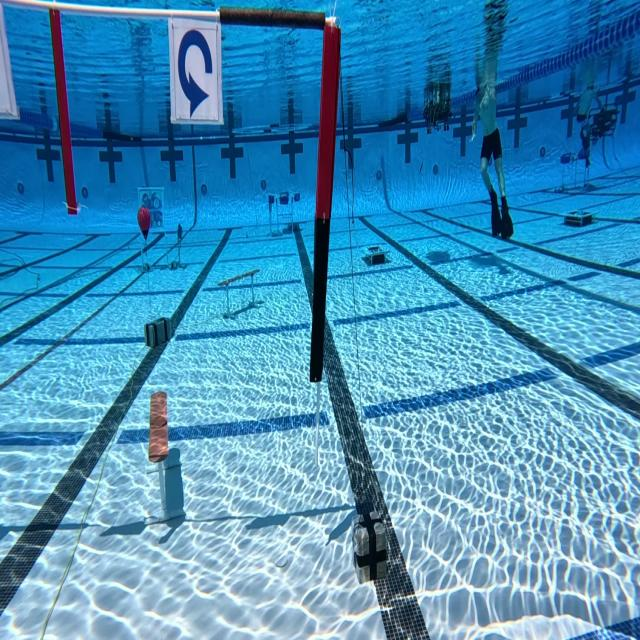blue_side: (168, 12, 224, 133)
